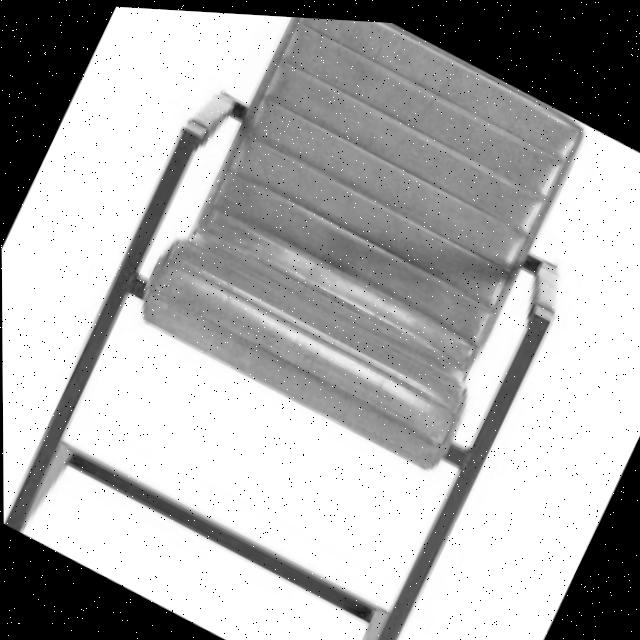sandalye: (0, 0, 637, 640)
